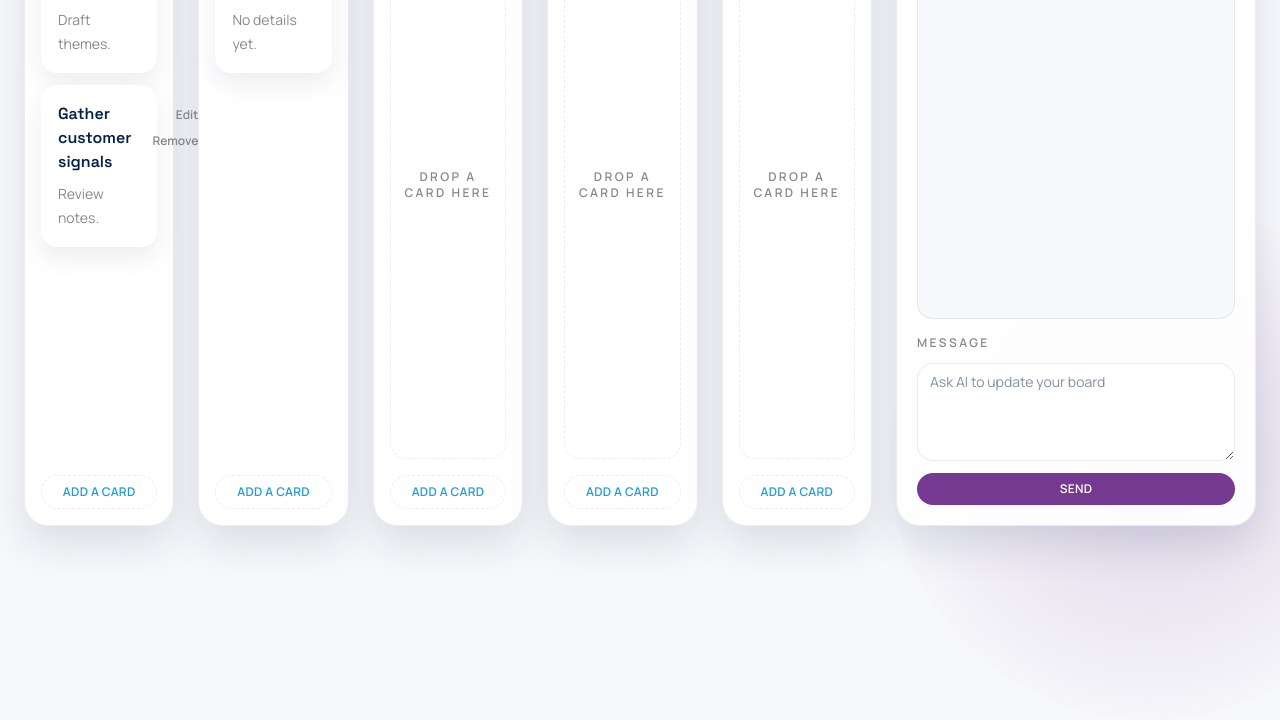
Test case: chat sidebar › sends a message, renders the reply, and refreshes the board from the response
The width and height of the screenshot is (1280, 720).
(page scrolled)
Type "Create a card in Backlog" into the text box labelled "Message" at x=1076, y=412, box left=917, top=363, right=1235, bottom=461
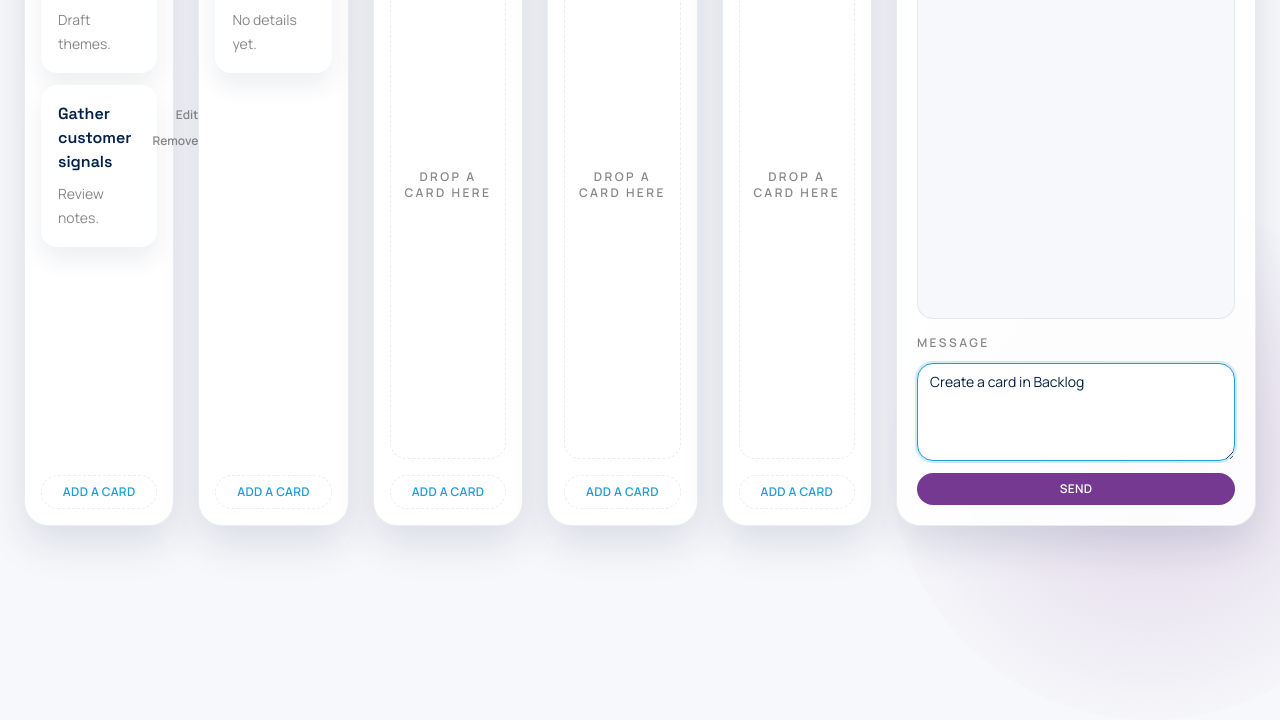
Click the button "Send" at x=1076, y=489, box left=917, top=473, right=1235, bottom=505
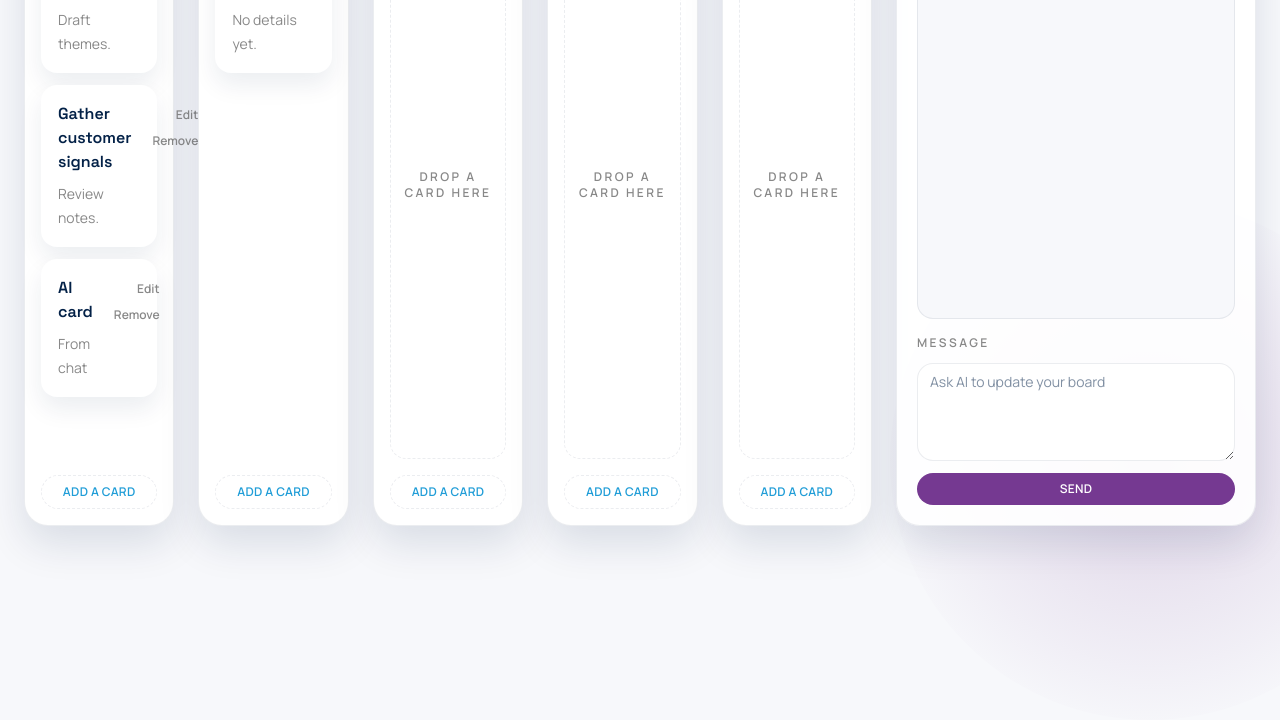
Expected: the button with test id "card-card-77" is shown, left=41, top=259, right=157, bottom=397
